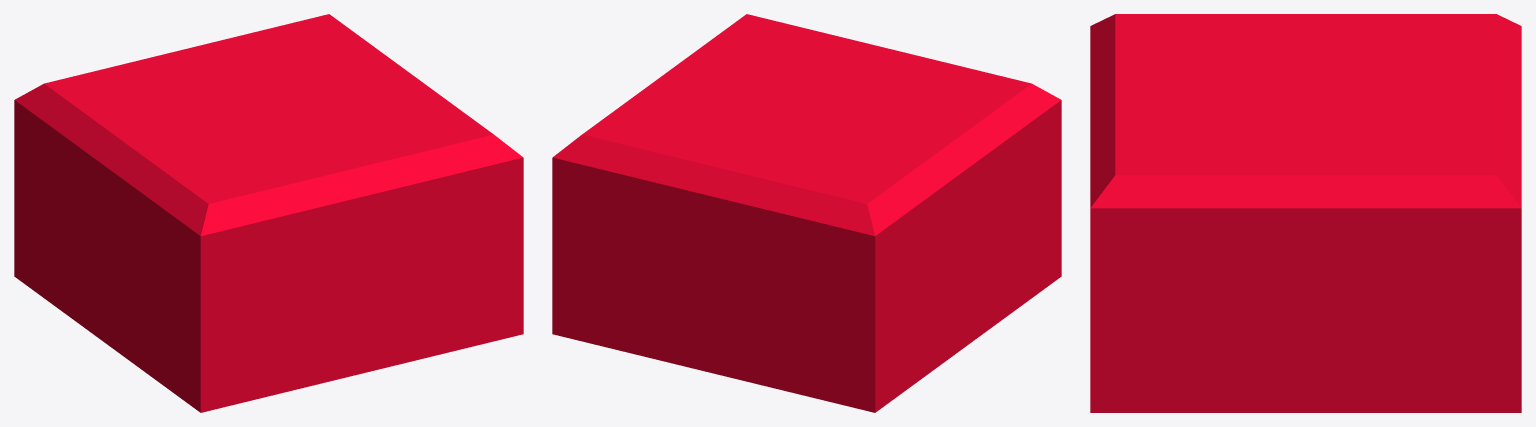
Rendered from block.obj.
The picture shows the model from 3 angles, left to right: view 1: azimuth 30°, elevation 25°; view 2: azimuth 150°, elevation 25°; view 3: azimuth 270°, elevation 25°; orthographic projection. The views are drawn at different scales.
Parts seen in each view (by area): view 1: Cube; view 2: Cube; view 3: Cube.
Part boxes in pixels (x1,y1,x2,y2): Cube: (14,14,523,412); Cube: (552,14,1061,412); Cube: (1090,14,1521,412).
Size of the model in its own units: 2 by 1.16 by 2.
